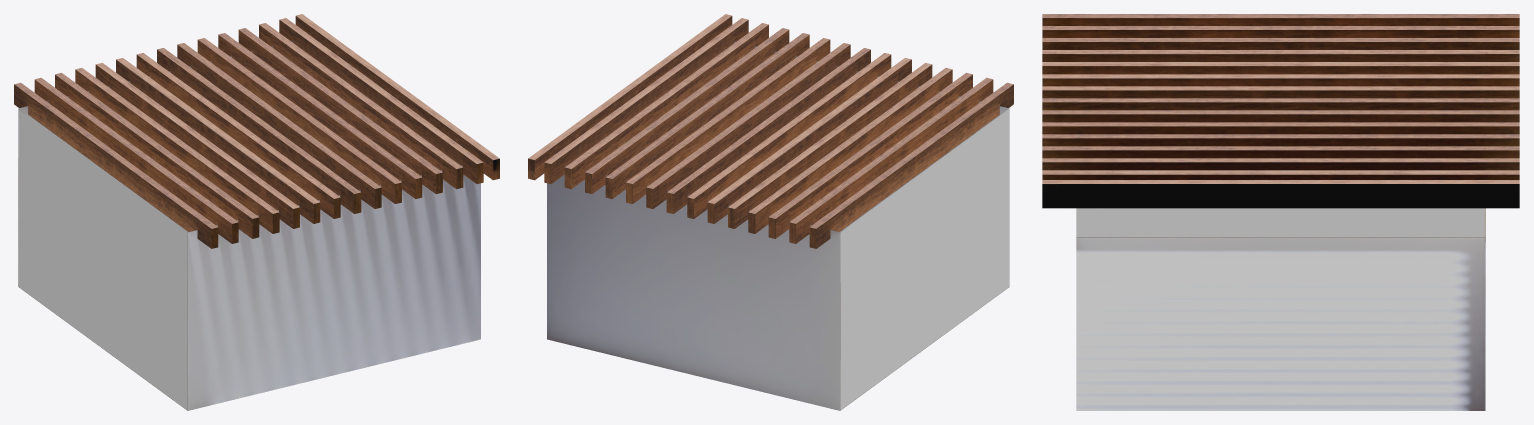
File: emptyBox.glb
The picture shows the model from 3 angles, left to right: view 1: azimuth 30°, elevation 25°; view 2: azimuth 150°, elevation 25°; view 3: azimuth 270°, elevation 25°; orthographic projection. The views are drawn at different scales.
Parts seen in each view (by area): view 1: box.002; view 2: box.002; view 3: box.002.
Boxes of the visible parts, x1=… form: box.002: x1=14, y1=14, x2=499, y2=410; box.002: x1=528, y1=14, x2=1013, y2=410; box.002: x1=1042, y1=14, x2=1519, y2=410.
Size of the model in its own units: 2.03 by 1.24 by 2.33.
Materials: 1 (1 with a texture image).
